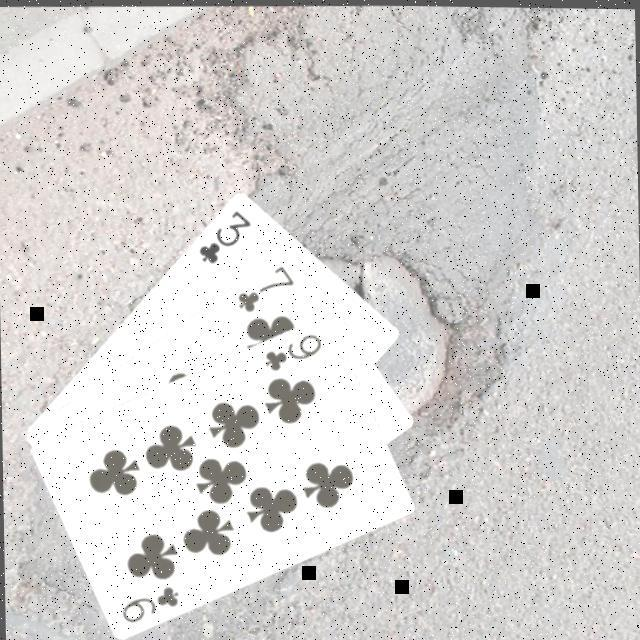3C: (196, 202, 257, 265)
7C: (235, 258, 300, 313)
9C: (263, 326, 328, 372), (120, 578, 185, 624)
